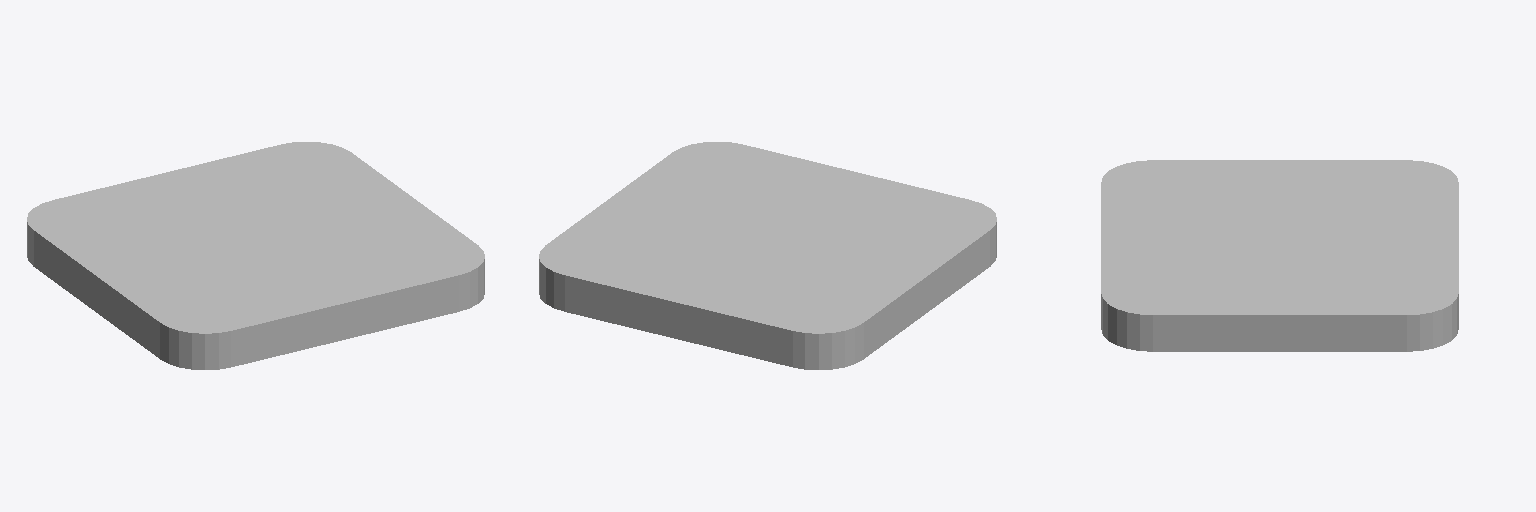
Rendered from original-34.obj.
3 renders of one model, left to right at view 1: azimuth 30°, elevation 25°; view 2: azimuth 150°, elevation 25°; view 3: azimuth 270°, elevation 25°, orthographic.
Visible parts, largest first — view 1: mesh33/mesh33-geometry#mesh33-geometry; view 2: mesh33/mesh33-geometry#mesh33-geometry; view 3: mesh33/mesh33-geometry#mesh33-geometry.
Boxes of the visible parts, x1=… form: mesh33/mesh33-geometry#mesh33-geometry: x1=27, y1=142, x2=484, y2=369; mesh33/mesh33-geometry#mesh33-geometry: x1=539, y1=142, x2=996, y2=369; mesh33/mesh33-geometry#mesh33-geometry: x1=1101, y1=160, x2=1458, y2=351.
Size of the model in its own units: 0.0583 by 0.0064 by 0.0568.